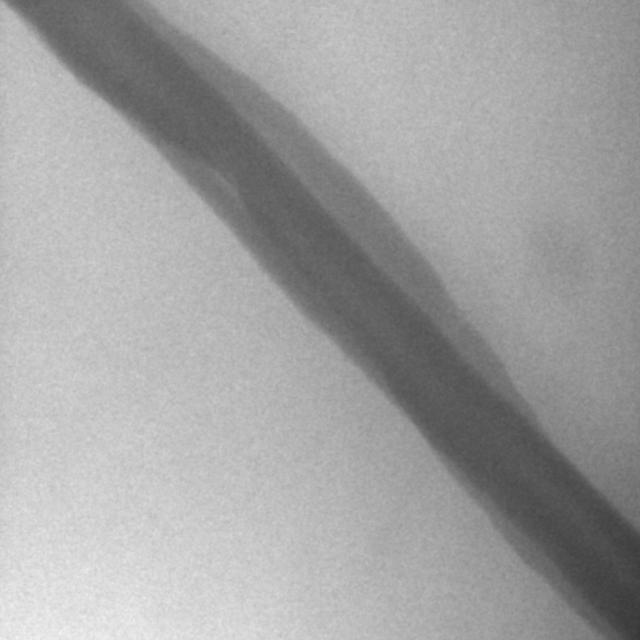unfused: (185, 152, 253, 223)
